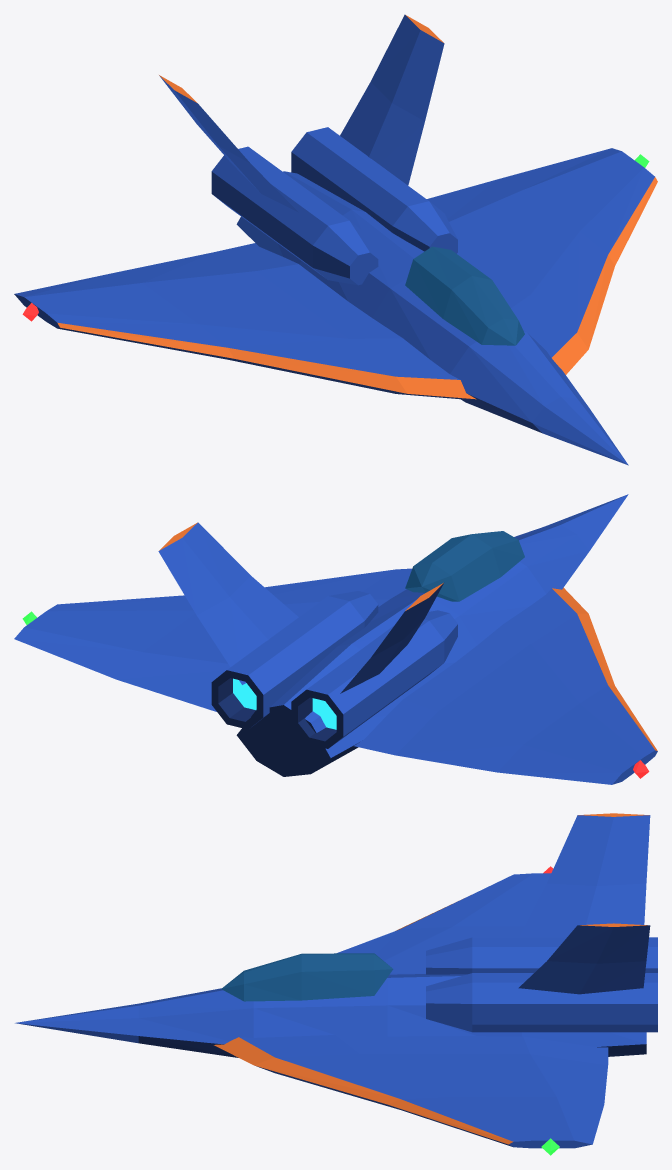
The model's file is arcwing-interceptor-hull.gltf.
The picture shows the model from 3 angles, top to bottom: view 1: azimuth 30°, elevation 25°; view 2: azimuth 150°, elevation 25°; view 3: azimuth 270°, elevation 25°; orthographic projection. The views are drawn at different scales.
Visible parts, largest first — view 1: arcwing-interceptor; view 2: arcwing-interceptor; view 3: arcwing-interceptor.
Boxes of the visible parts, <box> form: arcwing-interceptor: <box>14,14,657,465</box>; arcwing-interceptor: <box>14,494,657,784</box>; arcwing-interceptor: <box>15,813,657,1155</box>.
Size of the model in its own units: 3.46 by 1.09 by 3.36.
